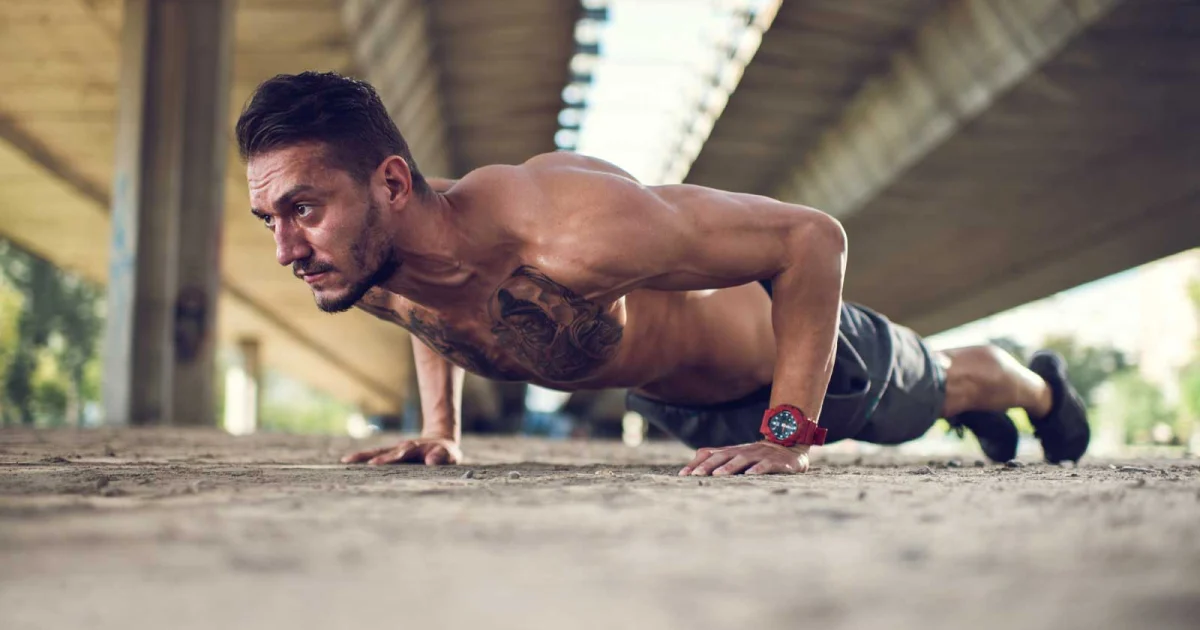down: (237, 69, 1106, 487)
